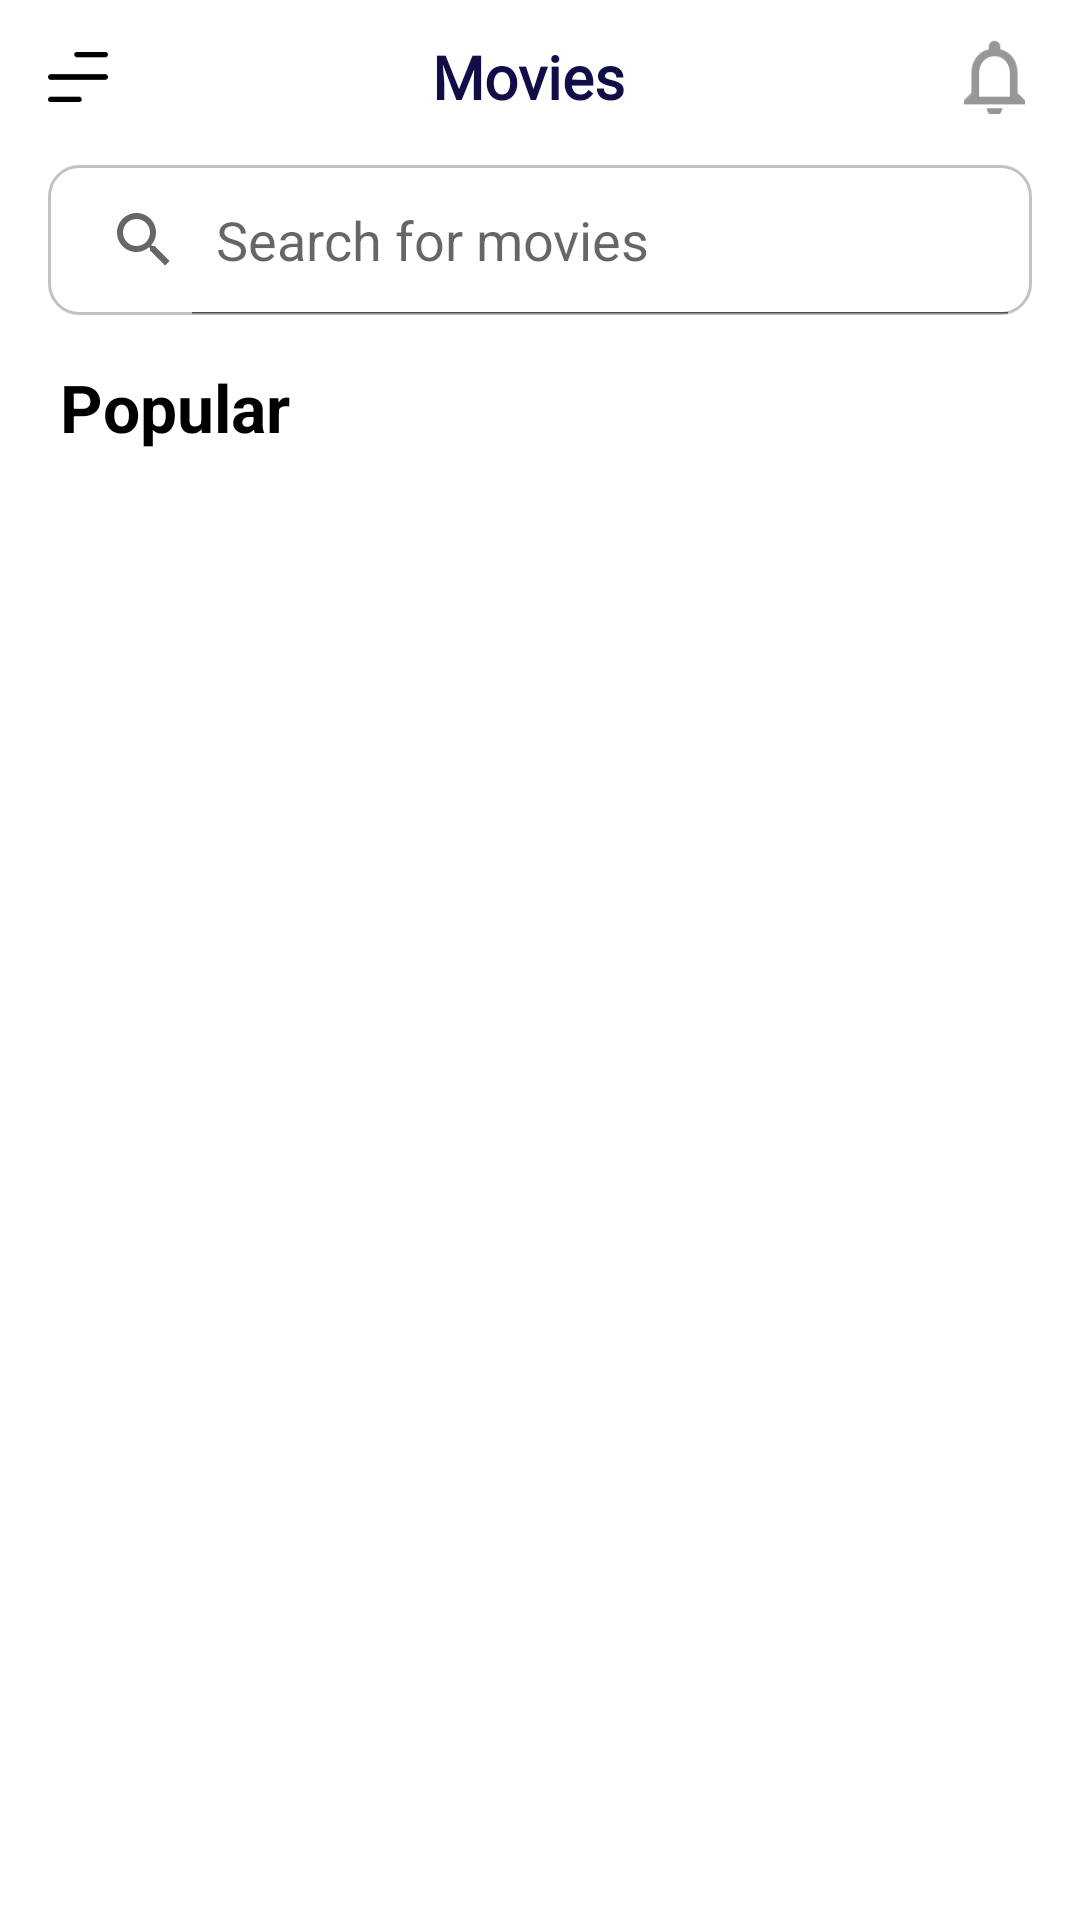

Named icons in this screenshot (1080w x 1920h) and their bounding boxes, (x1, y1, x2, y2):
notification: (964, 41, 1025, 114)
sidebar: (48, 52, 108, 102)
